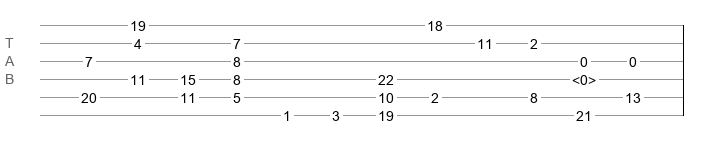0: (580, 54, 588, 64), (629, 54, 637, 64)
1: (283, 108, 291, 118)
10: (378, 90, 394, 100)
11: (130, 72, 146, 82), (180, 90, 196, 100), (477, 36, 493, 46)
13: (625, 90, 641, 100)
15: (180, 72, 196, 82)
18: (427, 18, 443, 28)
19: (130, 18, 146, 28), (378, 108, 394, 118)
2: (431, 90, 439, 100), (530, 36, 538, 46)
20: (81, 90, 97, 100)
21: (576, 108, 592, 118)
22: (378, 72, 394, 82)
3: (332, 108, 340, 118)
4: (134, 36, 142, 46)
5: (233, 90, 241, 100)
7: (85, 54, 93, 64), (233, 36, 241, 46)
8: (233, 54, 241, 64), (233, 72, 241, 82), (530, 90, 538, 100)
harmonic: (572, 72, 596, 82)
